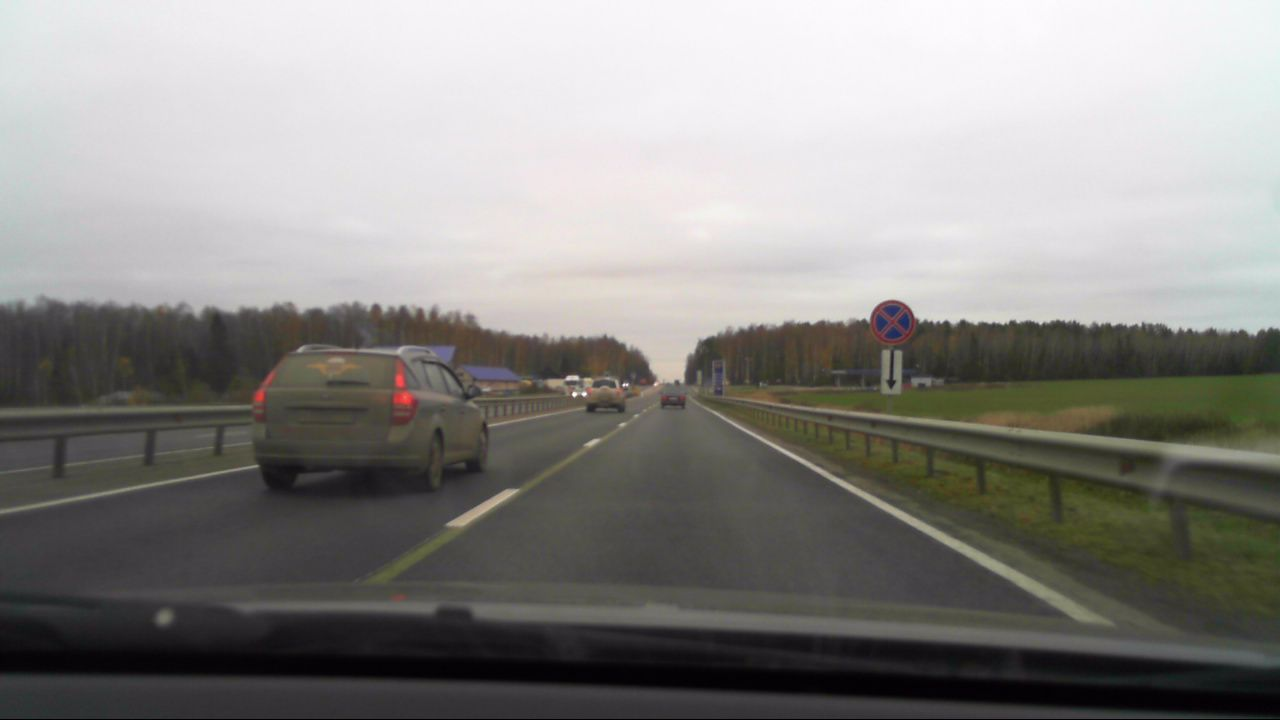No Parking: (868, 300, 916, 346)
